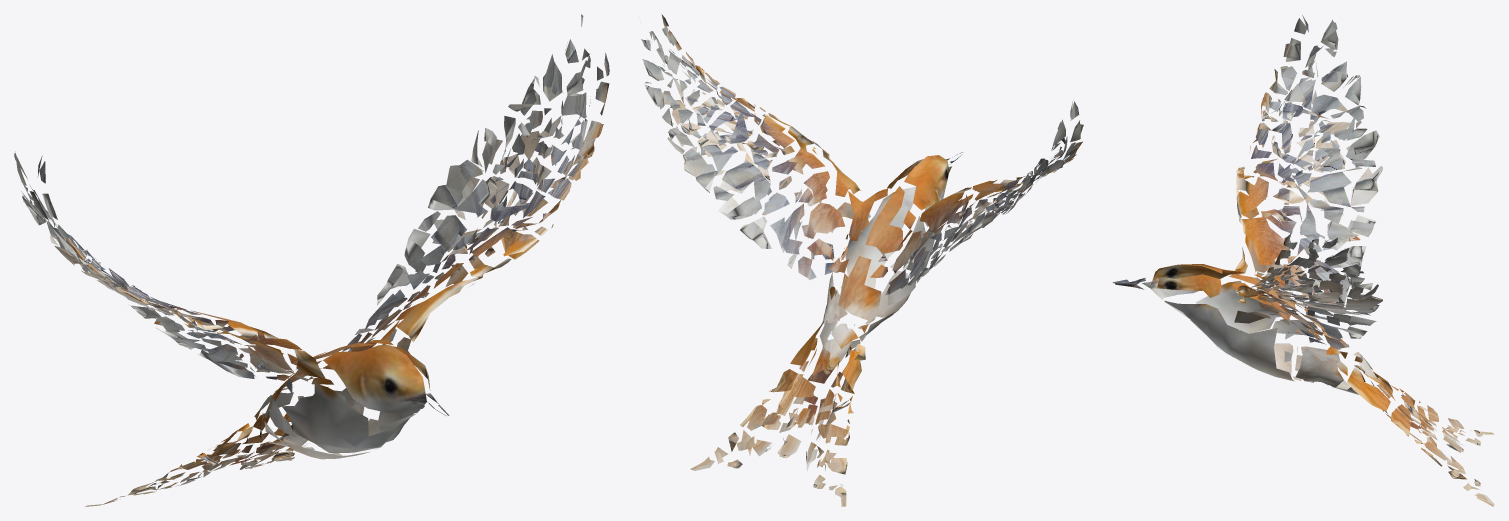
Rendered from vogel.glb.
The picture shows the model from 3 angles, left to right: view 1: azimuth 30°, elevation 25°; view 2: azimuth 150°, elevation 25°; view 3: azimuth 270°, elevation 25°; orthographic projection. The views are drawn at different scales.
Bounding box in the file's own units: 1.89 × 1.57 × 1.52.
1 material, 1 textured.
